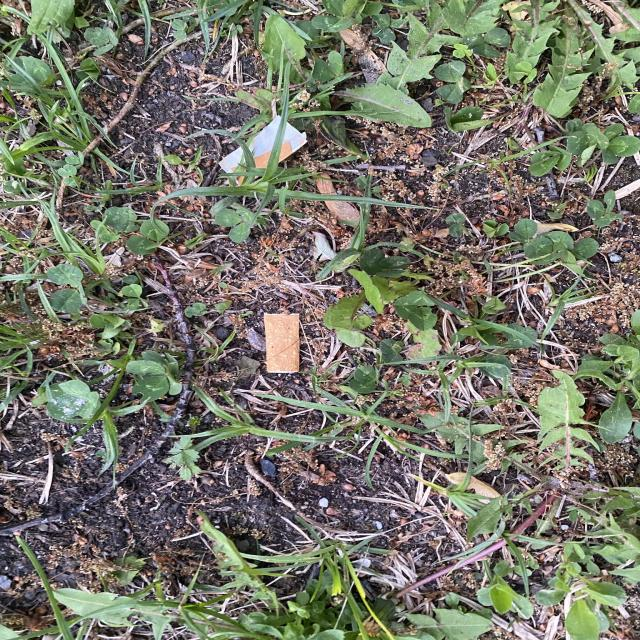other waste: (218, 115, 308, 187), (264, 312, 300, 373)
